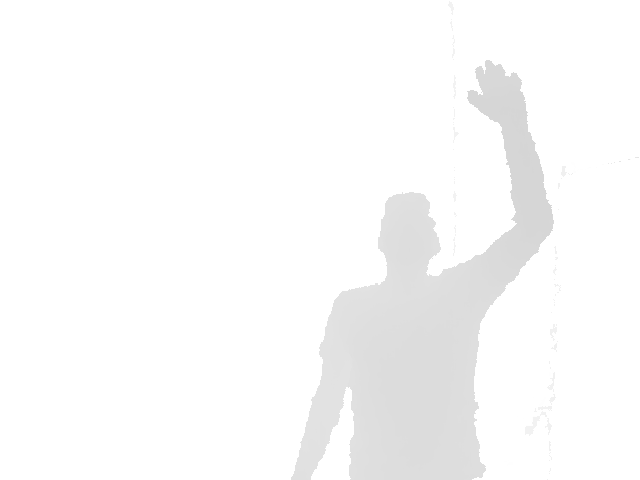hand: (465, 57, 529, 123)
head: (377, 192, 442, 265)
person: (288, 58, 555, 480)
